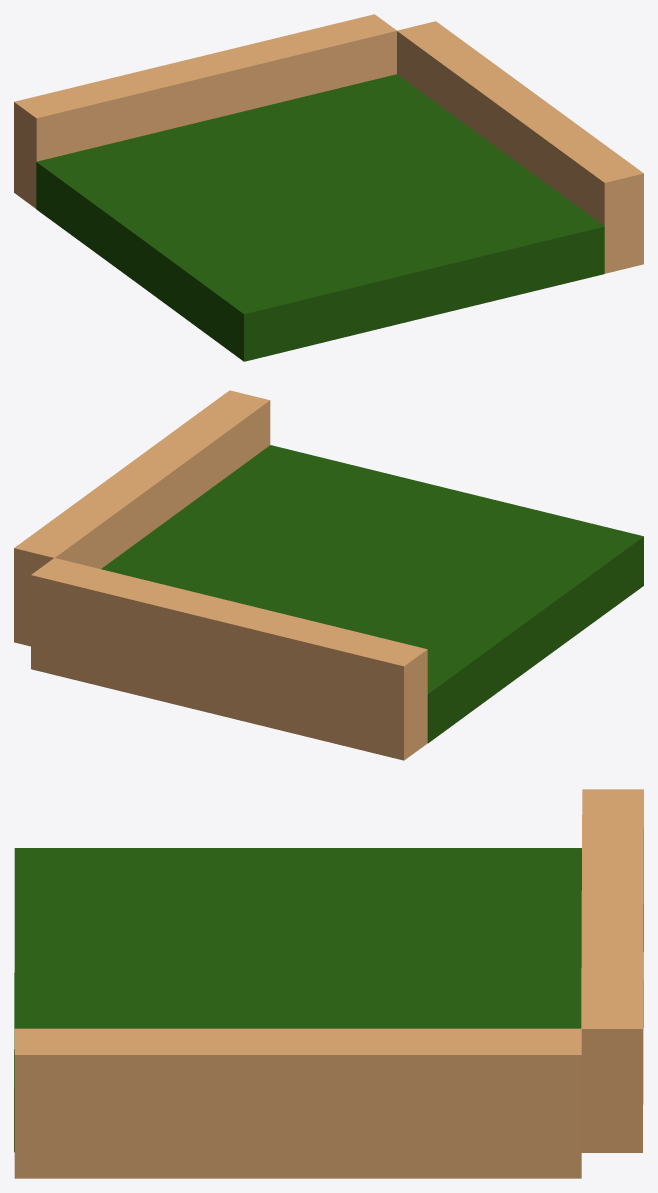
File: NewLego4.fbx
3 views of the same model, one above another, from view 1: azimuth 30°, elevation 25°; view 2: azimuth 150°, elevation 25°; view 3: azimuth 270°, elevation 25° (orthographic). The views are drawn at different scales.
Parts seen in each view (by area): view 1: Cube.071, Cube.056; view 2: Cube.071, Cube.056; view 3: Cube.056, Cube.071.
Part boxes in pixels (x1,y1,x2,y2): Cube.071: (36,74,604,361); Cube.056: (14,14,643,273); Cube.071: (101,445,643,743); Cube.056: (14,390,427,760); Cube.056: (14,789,643,1178); Cube.071: (14,848,581,1152).
Size of the model in its own units: 201 by 43.6 by 201.
